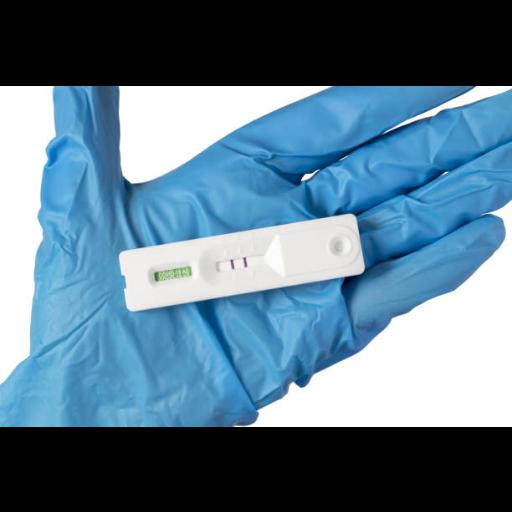Pos: (119, 211, 367, 311)
